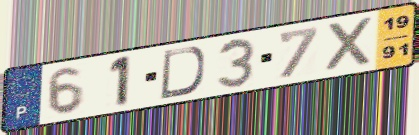1: (106, 53, 134, 109)
3: (215, 36, 258, 90)
6: (46, 65, 87, 117)
7: (276, 24, 321, 81)
D: (157, 45, 207, 101)
X: (325, 14, 378, 74)
